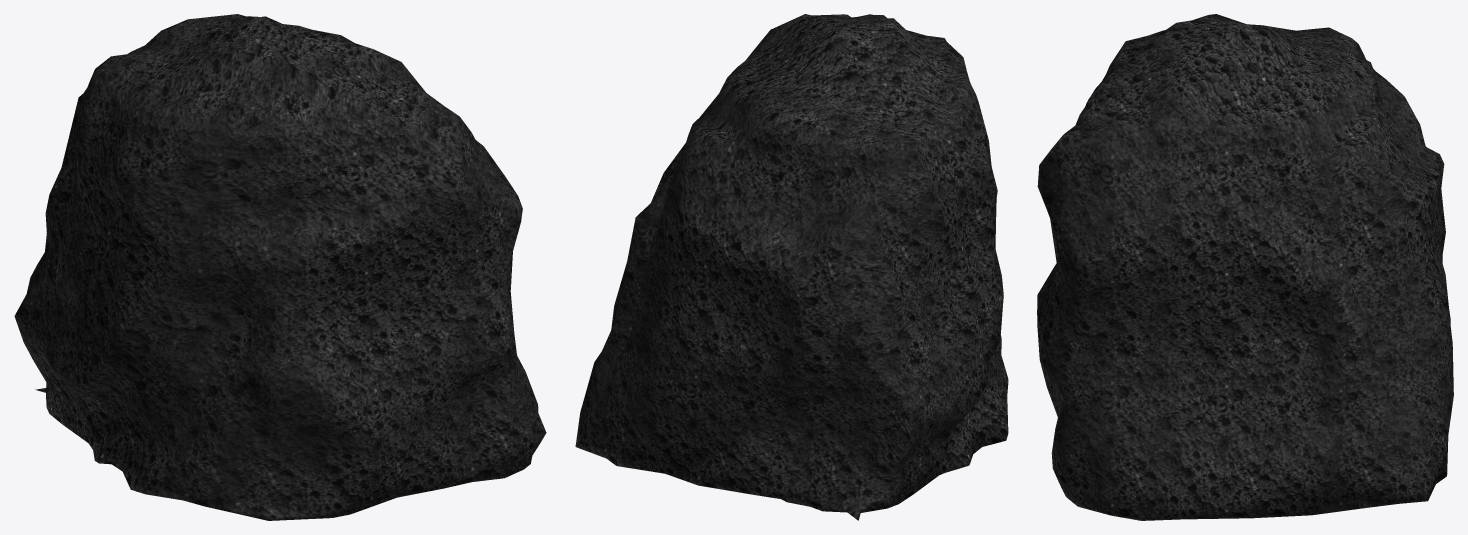
File: SculptedBasalt02.fbx
3 renders of one model, left to right at view 1: azimuth 30°, elevation 25°; view 2: azimuth 150°, elevation 25°; view 3: azimuth 270°, elevation 25°, orthographic. The views are drawn at different scales.
Parts seen in each view (by area): view 1: SculptedBasalt02_LOD0; view 2: SculptedBasalt02_LOD0; view 3: SculptedBasalt02_LOD0.
Boxes of the visible parts, bbox=[...] form: SculptedBasalt02_LOD0: bbox=[14, 14, 546, 520]; SculptedBasalt02_LOD0: bbox=[575, 14, 1008, 520]; SculptedBasalt02_LOD0: bbox=[1037, 14, 1453, 520].
Size of what is drawn, in the model's own units: 2.32 by 2.43 by 2.28.
Materials: 1 (1 with a texture image).
